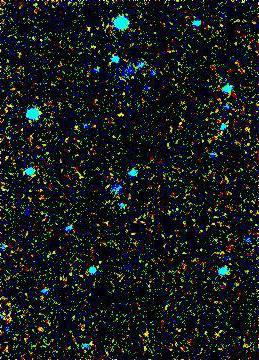star: (28, 312, 58, 342)
